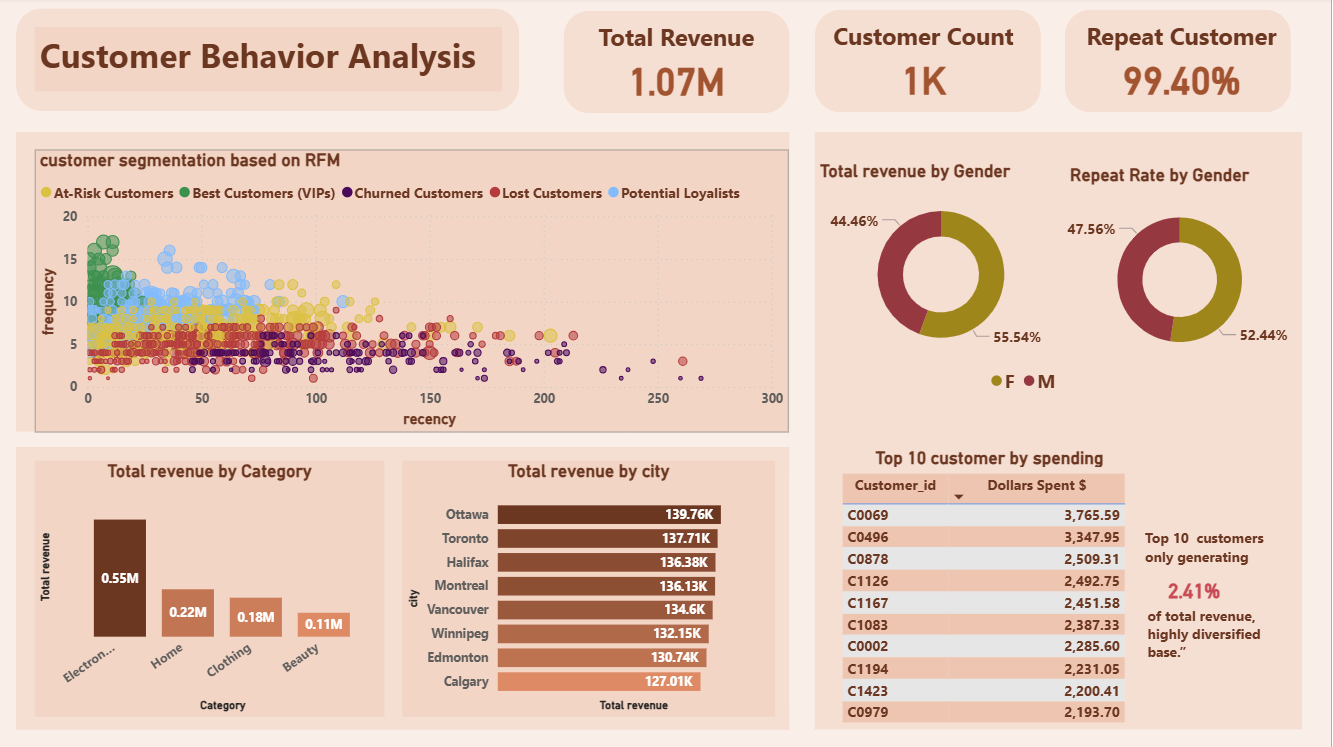

Layout of this report page (visuals, bound fields, positions):
{"tool":"powerbi","page":{"name":"overallanalysis","canvas":[1280,720],"ordinal":0},"visuals":[{"type":"shape","box":[18.7,10.7,482.7,98.7],"z":500},{"type":"textbox","box":[37.3,29.3,448,61.3],"z":1000},{"type":"shape","box":[784.9,129.8,467.5,572.8],"z":1002},{"type":"shape","box":[18.8,129.8,741.6,287.1],"z":1003},{"type":"shape","box":[18.8,431.4,741.6,271.2],"z":1004},{"type":"shape","box":[544.1,13.2,216.9,98.3],"z":1006},{"type":"shape","box":[1024.7,11.6,217,98.8],"z":1007},{"type":"shape","box":[784.5,11.6,217,98.8],"z":1008},{"type":"cardVisual","fields":{"Data":["public customers_orders.Total revenue"]},"box":[557.3,1.2,190.6,121],"z":1009},{"type":"cardVisual","fields":{"Data":["public customers_orders.customer count"]},"box":[777.6,0,223.6,121.2],"z":1010},{"type":"cardVisual","fields":{"Data":["public customers_orders.Repeat Customer %"]},"box":[1015.7,0,243.8,121.2],"z":1011},{"type":"columnChart","fields":{"Y":["public customers_orders.Total revenue"],"Category":["public customers_orders.Category"]},"box":[37.2,444.6,335.6,245.7],"z":1012},{"type":"barChart","fields":{"Category":["public customers_orders.city"],"Y":["public customers_orders.Total revenue"]},"box":[389.5,444.4,357.8,245.3],"z":1013},{"type":"tableEx","title":"Top 10 customer by spending","fields":{"Values":["public customers_orders.customer_id","Sum(public customers_orders.total_amount)"]},"box":[805.1,431.4,294.3,272.7],"z":1014},{"type":"cardVisual","fields":{"Data":["public customers_orders.Top 10 Customers % of Revenue"]},"box":[1090.7,532.4,116.9,67.8],"z":1015},{"type":"textbox","box":[1096.5,505,141.4,62],"z":1016},{"type":"textbox","box":[1099.4,578.5,147.2,67.8],"z":1017},{"type":"donutChart","fields":{"Y":["public customers_orders.Total revenue"],"Category":["public customers_orders.Gender"]},"box":[784.9,157.3,242.4,232.3],"z":1018},{"type":"donutChart","fields":{"Category":["public customers_orders.Gender"],"Y":["public customers_orders.Repeat Customers"]},"box":[1024.4,160.1,220.7,200.5],"z":1019},{"type":"scatterChart","title":"customer segmentation based on RFM","fields":{"X":["RFM table.recency"],"Y":["RFM table.frequency"],"Size":["Sum(RFM table.monetary)"],"Series":["RFM table.RFM_Category"]},"box":[37.5,145.7,722.8,271.2],"z":1020}]}

Visuals, with their boxes in screenshot pixels (x1, y1, x2, y2), scaled from the page's 1280x720 canvas onto the 1333x747 screenshot:
shape: [x1=19, y1=11, x2=522, y2=114]
textbox: [x1=39, y1=30, x2=505, y2=94]
shape: [x1=817, y1=135, x2=1304, y2=729]
shape: [x1=20, y1=135, x2=792, y2=433]
shape: [x1=20, y1=448, x2=792, y2=729]
shape: [x1=567, y1=14, x2=793, y2=116]
shape: [x1=1067, y1=12, x2=1293, y2=115]
shape: [x1=817, y1=12, x2=1043, y2=115]
cardVisual - public customers_orders.Total revenue: [x1=580, y1=1, x2=779, y2=127]
cardVisual - public customers_orders.customer count: [x1=810, y1=0, x2=1043, y2=126]
cardVisual - public customers_orders.Repeat Customer %: [x1=1058, y1=0, x2=1312, y2=126]
columnChart - public customers_orders.Total revenue x public customers_orders.Category: [x1=39, y1=461, x2=388, y2=716]
barChart - public customers_orders.city x public customers_orders.Total revenue: [x1=406, y1=461, x2=778, y2=716]
"Top 10 customer by spending" tableEx: [x1=838, y1=448, x2=1145, y2=731]
cardVisual - public customers_orders.Top 10 Customers % of Revenue: [x1=1136, y1=552, x2=1258, y2=623]
textbox: [x1=1142, y1=524, x2=1289, y2=588]
textbox: [x1=1145, y1=600, x2=1298, y2=671]
donutChart - public customers_orders.Total revenue x public customers_orders.Gender: [x1=817, y1=163, x2=1070, y2=404]
donutChart - public customers_orders.Gender x public customers_orders.Repeat Customers: [x1=1067, y1=166, x2=1297, y2=374]
"customer segmentation based on RFM" scatterChart: [x1=39, y1=151, x2=792, y2=433]
